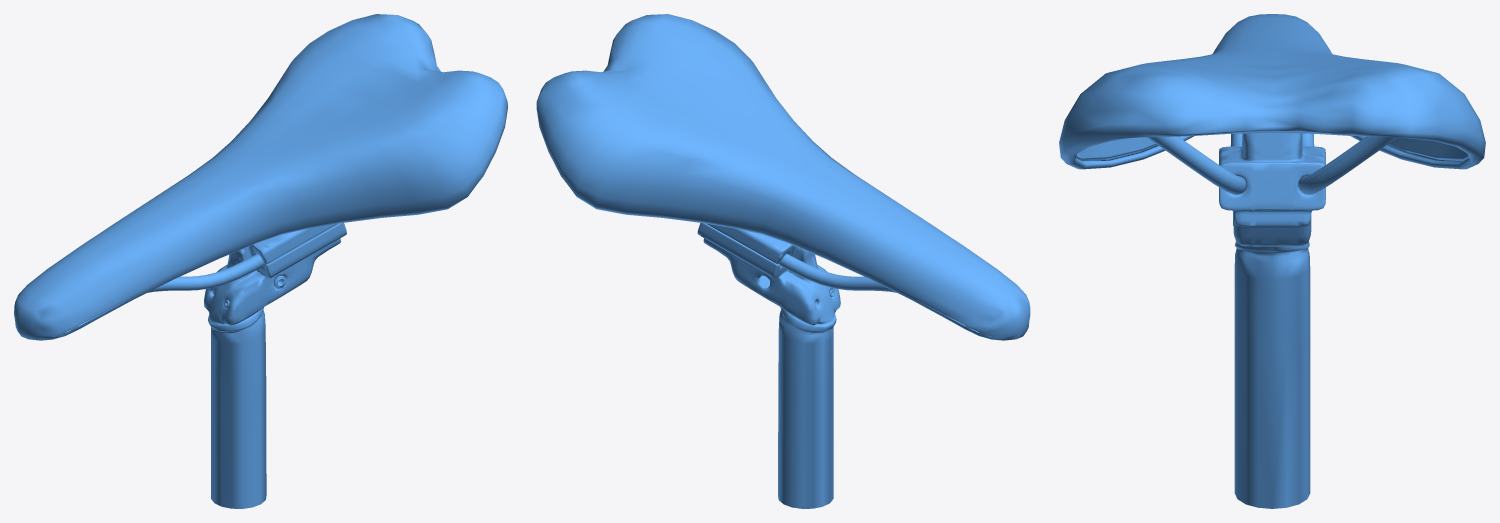
Rendered from saddleBlue.gltf.
3 views of the same model, side by side, from view 1: azimuth 30°, elevation 25°; view 2: azimuth 150°, elevation 25°; view 3: azimuth 270°, elevation 25° (orthographic). The views are drawn at different scales.
Visible parts, largest first — view 1: SEATPOST; view 2: SEATPOST; view 3: SEATPOST.
Boxes of the visible parts, x1=… form: SEATPOST: x1=14, y1=14, x2=507, y2=508; SEATPOST: x1=536, y1=14, x2=1030, y2=508; SEATPOST: x1=1059, y1=14, x2=1485, y2=508.
Size of the model in its own units: 0.6298 by 0.5436 by 0.3882.
